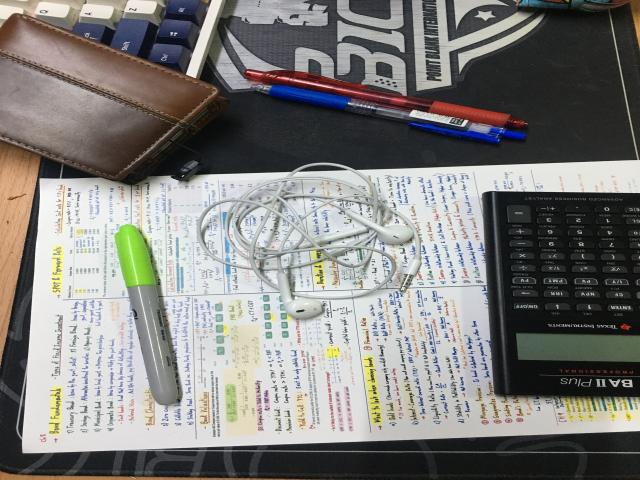Pen: (243, 69, 527, 128), (253, 84, 525, 139), (115, 224, 178, 404)
Wallet: (0, 14, 228, 185)
paper: (23, 161, 638, 453)
wire: (197, 163, 422, 319)
